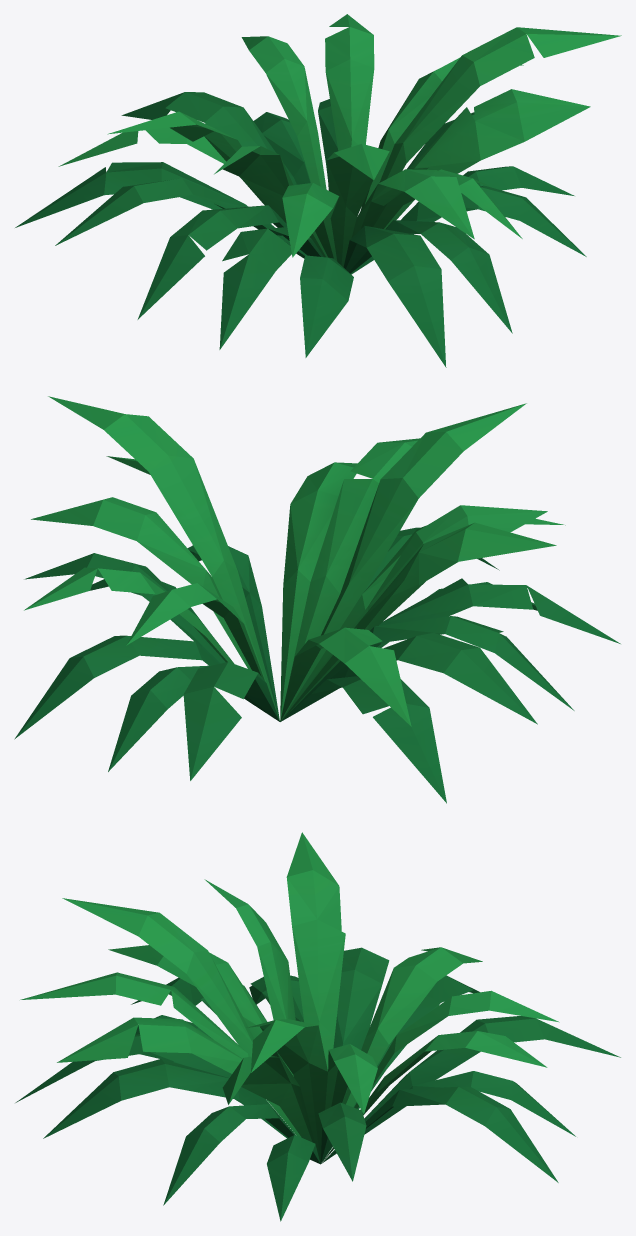
The model's file is bush_fern.glb.
The picture shows the model from 3 angles, top to bottom: view 1: azimuth 30°, elevation 25°; view 2: azimuth 150°, elevation 25°; view 3: azimuth 270°, elevation 25°; orthographic projection. The views are drawn at different scales.
Visible parts, largest first — view 1: bush_fern; view 2: bush_fern; view 3: bush_fern.
Boxes of the visible parts, x1,y1,x2,y2 form: bush_fern: [15, 14, 621, 367]; bush_fern: [14, 396, 620, 803]; bush_fern: [15, 832, 620, 1221].
Bounding box in the file's own units: 1.42 × 0.6 × 1.47.
Materials: 1 (1 with a texture image).
